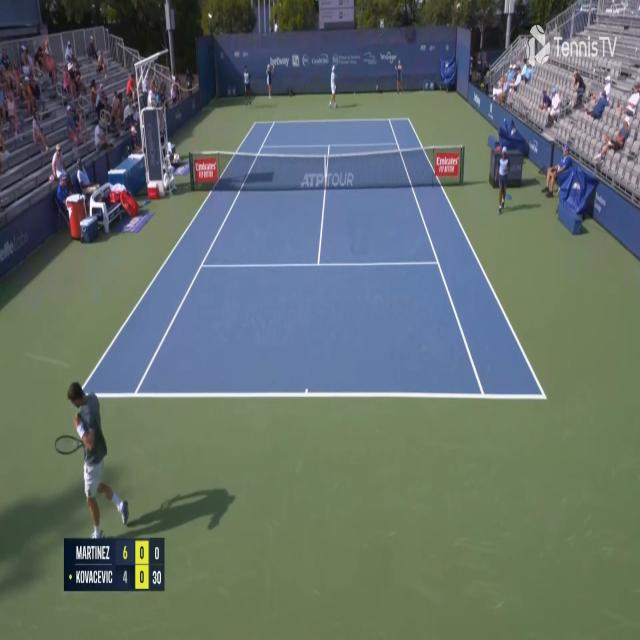tennis-player: (54, 376, 132, 544), (329, 62, 340, 109)
